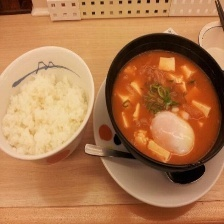rice: (0, 67, 94, 160)
